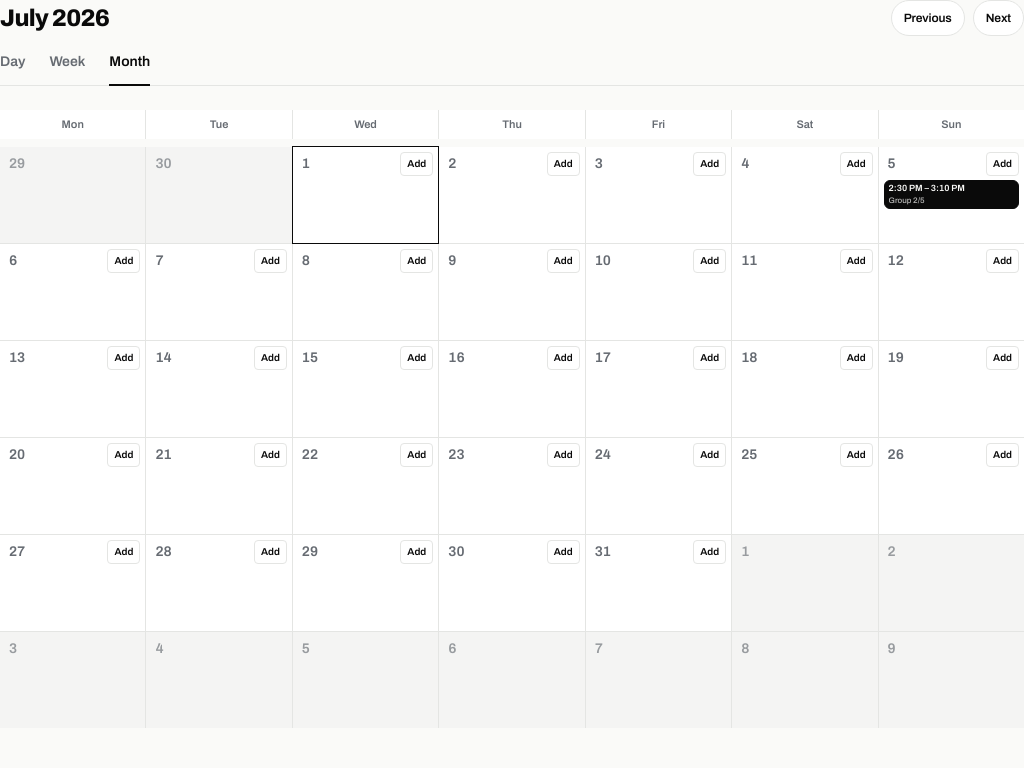
Test: TeacherAvailabilityCalendar — reservations on the calendar › names the class members for the teacher
Click the button with test id "month-booking-chip" at point(951, 194), box top-left (884, 180), bottom-right (1019, 209)
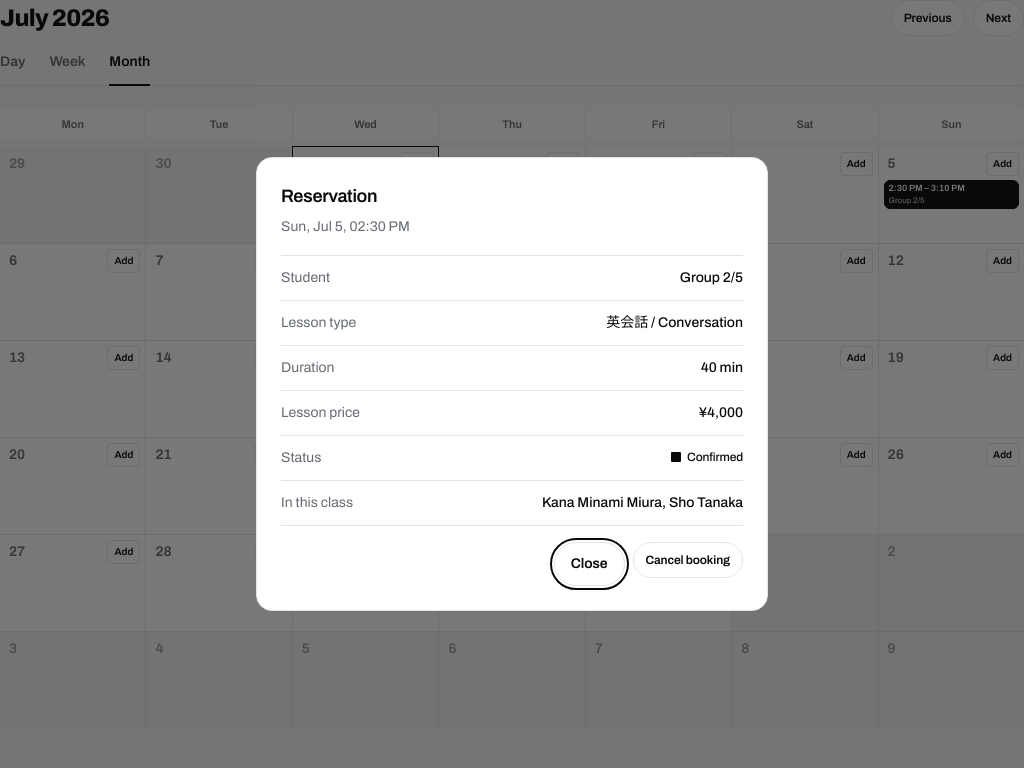
Now the text "Kana Minami Miura, Sho Tanaka" is shown, box top-left (542, 493), bottom-right (743, 513)
